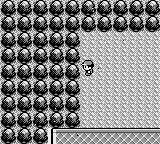main: (82, 61, 94, 75)
no-caminable: (1, 2, 159, 143), (52, 128, 159, 143)
